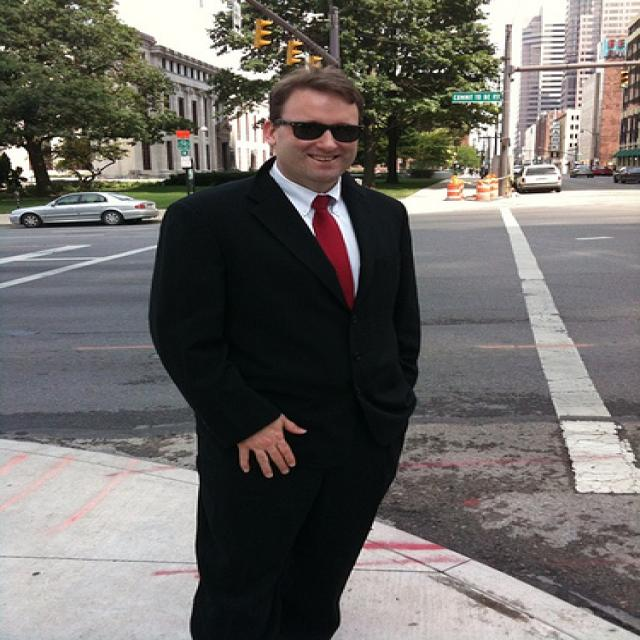Vehicle: (9, 191, 159, 228), (515, 165, 563, 193), (612, 166, 640, 184), (570, 165, 597, 178), (592, 166, 613, 177), (514, 165, 523, 175)
